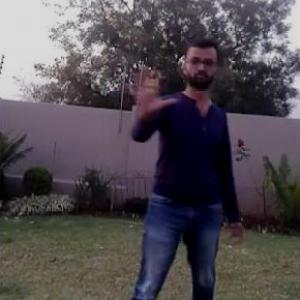follow_hand: (128, 60, 179, 116)
